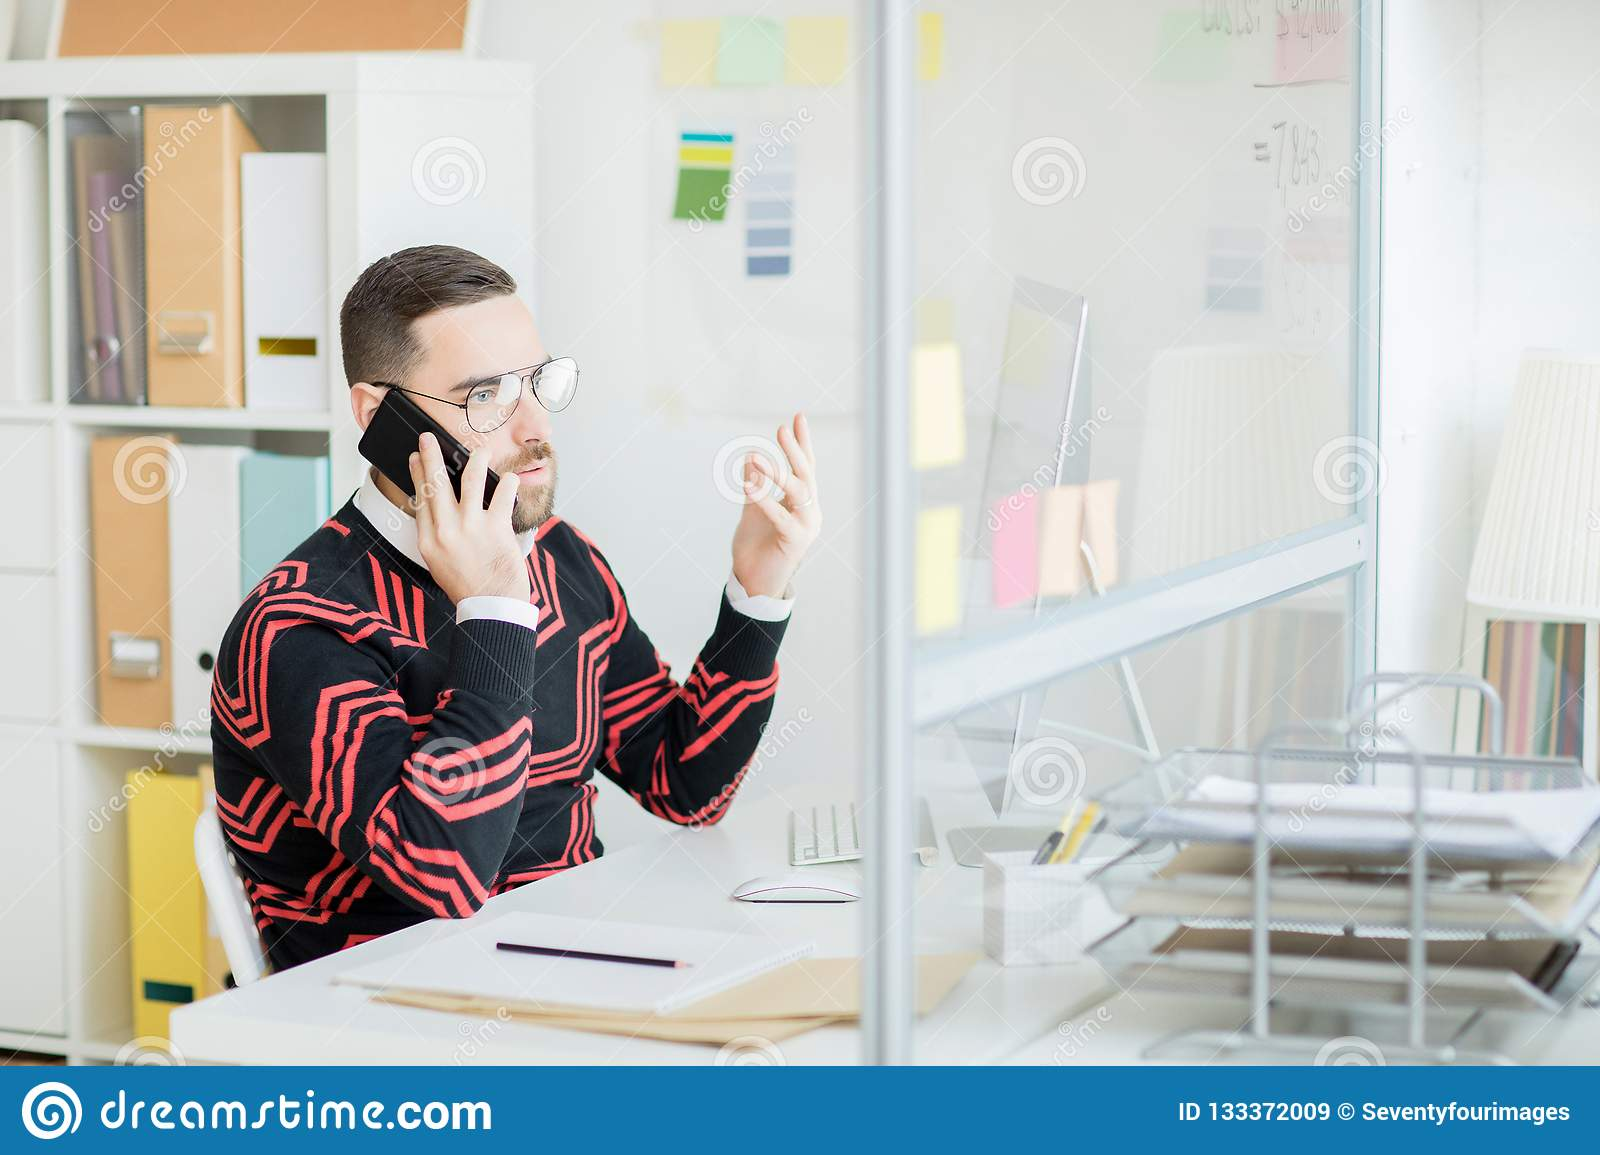phone: (361, 392, 528, 533)
talk: (360, 359, 554, 604)
